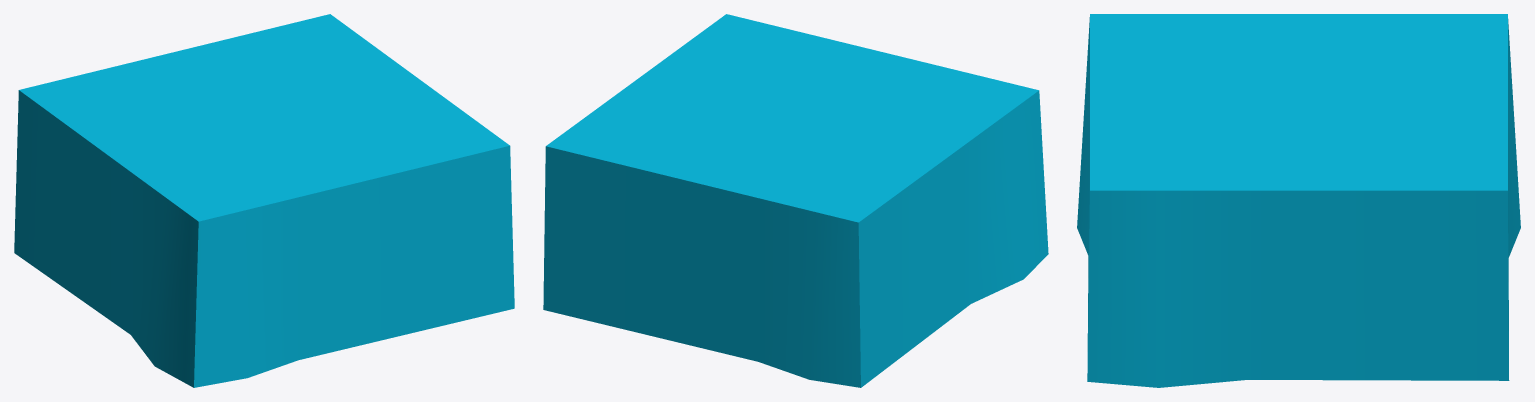
The model's file is Tablecloth_02.fbx.
The picture shows the model from 3 angles, left to right: view 1: azimuth 30°, elevation 25°; view 2: azimuth 150°, elevation 25°; view 3: azimuth 270°, elevation 25°; orthographic projection. The views are drawn at different scales.
Parts seen in each view (by area): view 1: Tablecloth_02; view 2: Tablecloth_02; view 3: Tablecloth_02.
Part boxes in pixels (<box>): Tablecloth_02: <box>14,14,514,387</box>; Tablecloth_02: <box>543,14,1048,387</box>; Tablecloth_02: <box>1077,14,1520,387</box>.
Size of the model in its own units: 645 by 296 by 628.
